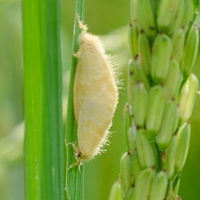insect: (71, 15, 117, 159)
